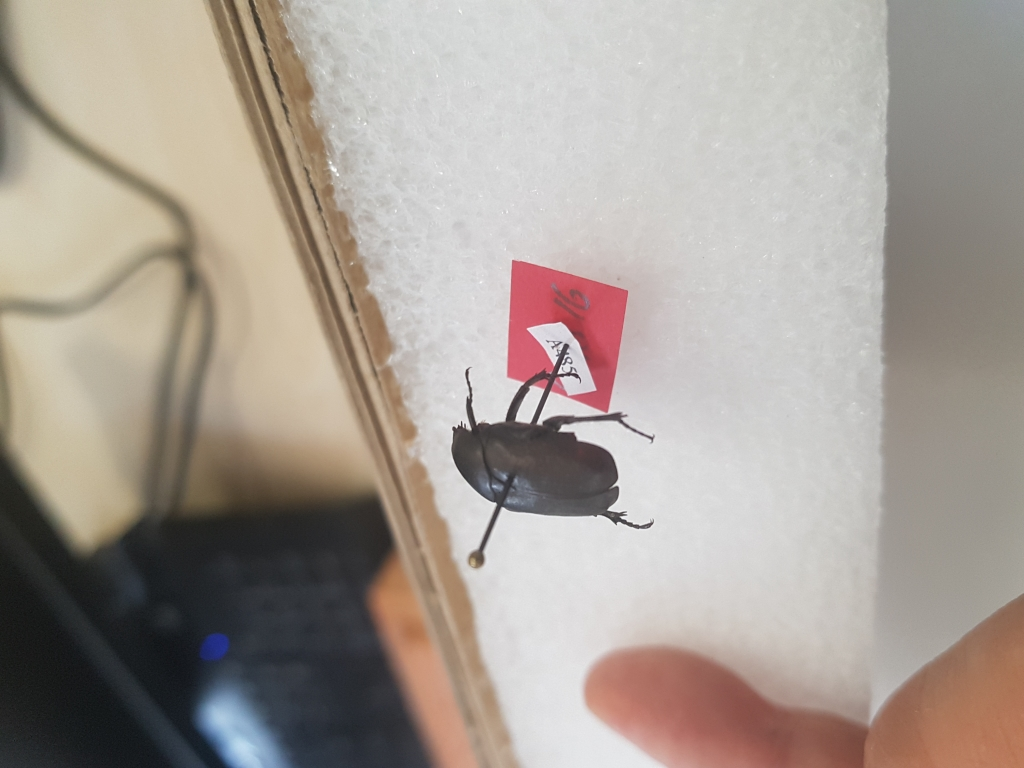Protaetia_vidua: (434, 348, 661, 531)
